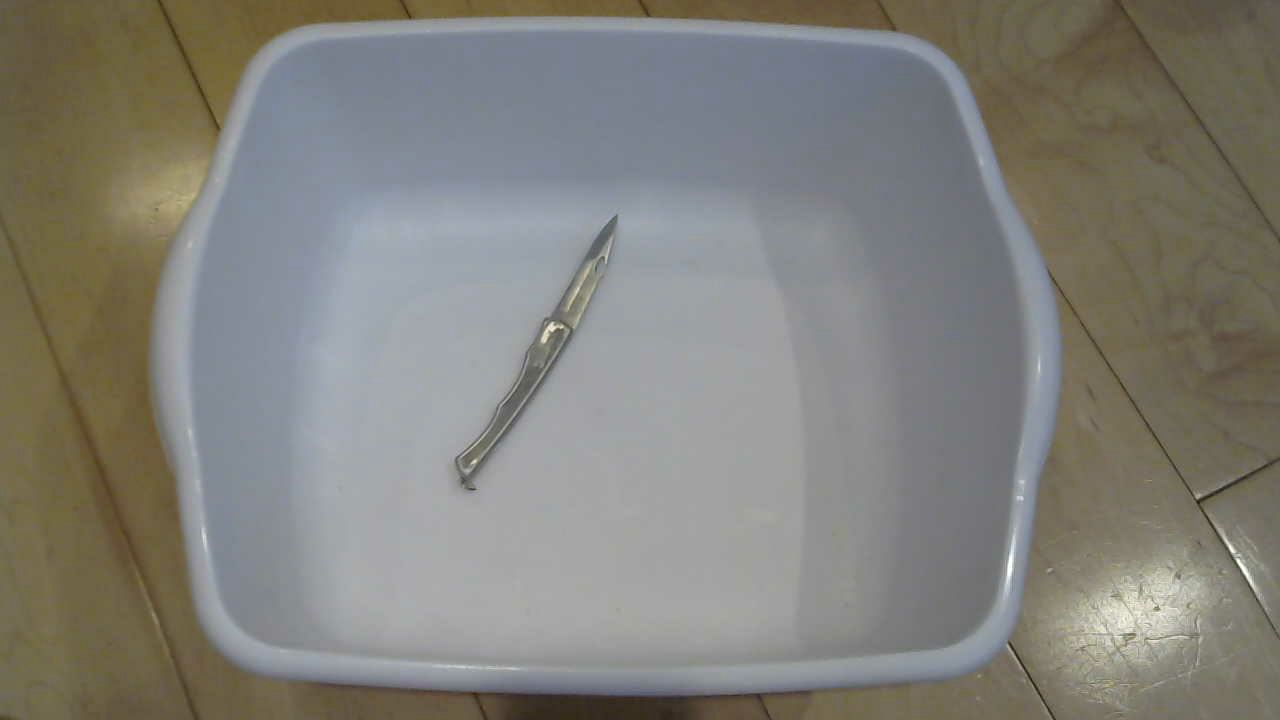knife: (447, 205, 632, 499)
